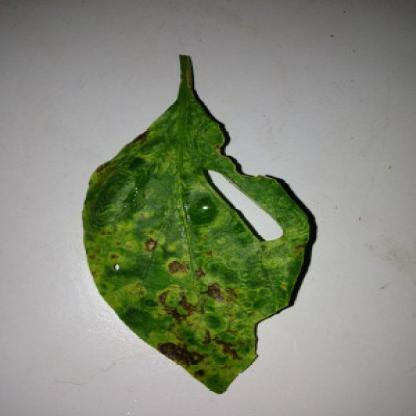Bell_pepper leaf: (48, 46, 356, 398)
